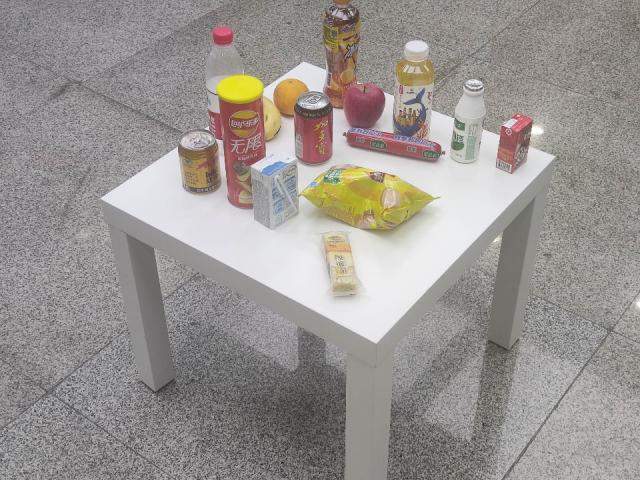Canned_drinks: (292, 88, 336, 164), (178, 126, 222, 195)
bottle: (450, 77, 485, 162)
cylinder: (215, 75, 267, 209)
drink_box: (238, 144, 308, 231), (493, 106, 535, 179)
